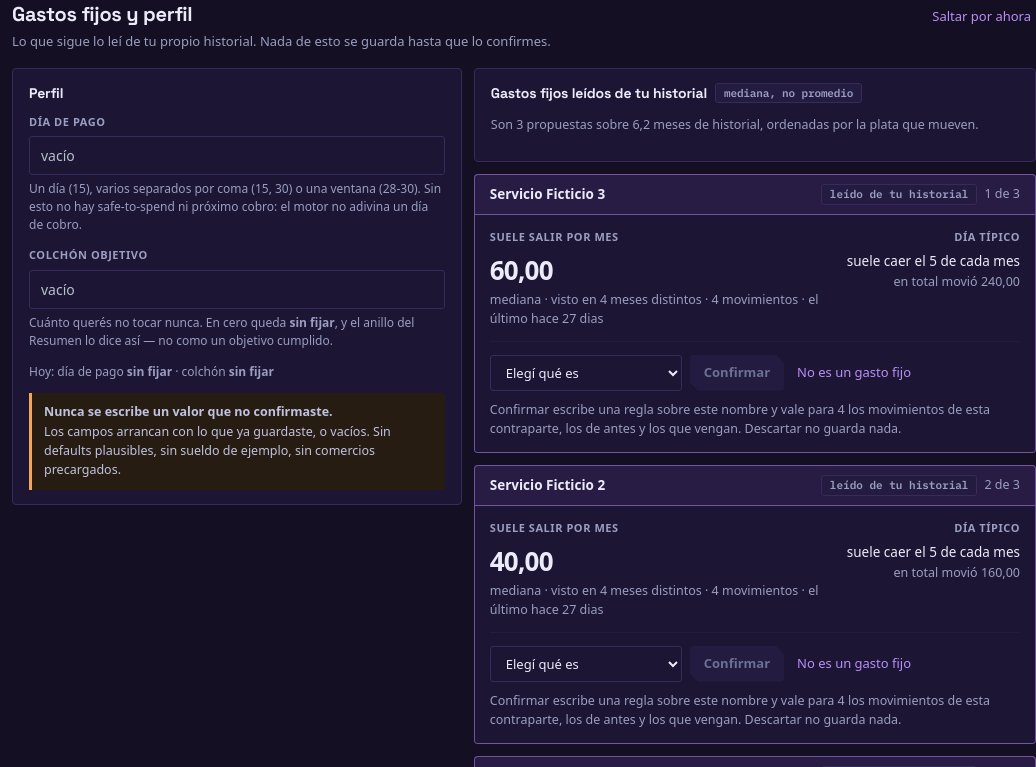
Test: el flujo termina en la cola (criterio 8) › si el motor rechaza un campo NO navega: muestra el motivo y deja corregir
This screenshot has width=1036, height=767.
Type "quincena" into the field with test id "campo-dias-pago" at (237, 156), box x1=29 y1=136 x2=445 y2=175
(page scrolled)
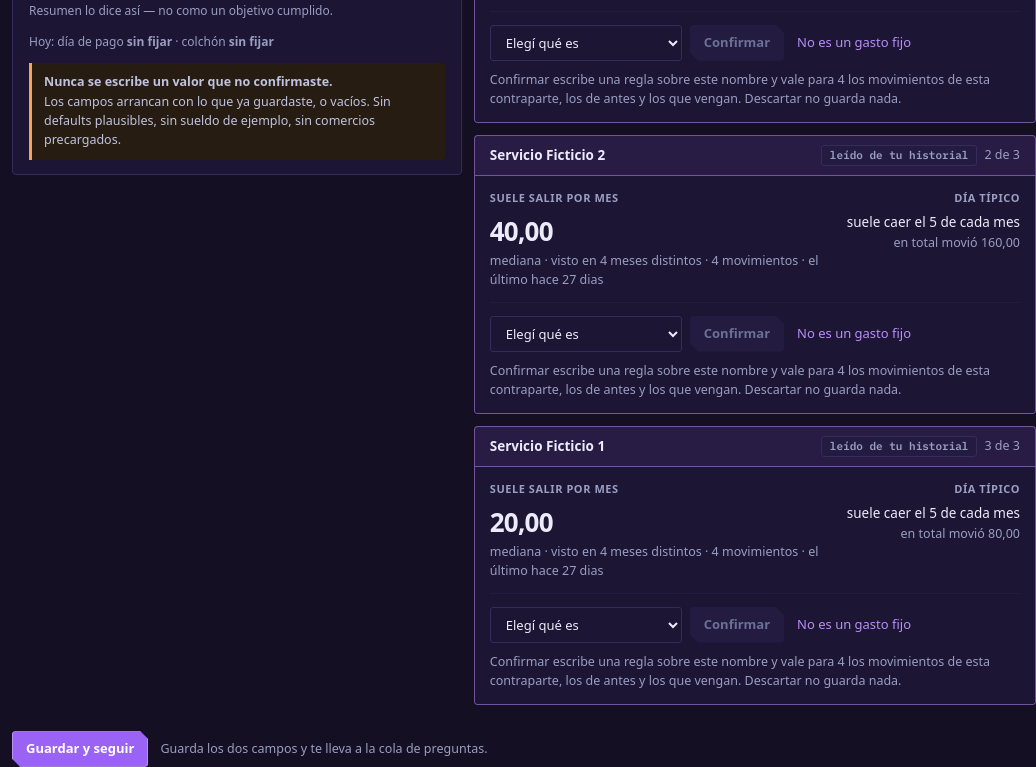
Click the button with test id "alta-guardar-y-seguir" at (80, 749), box x1=12 y1=731 x2=148 y2=766
(page scrolled)
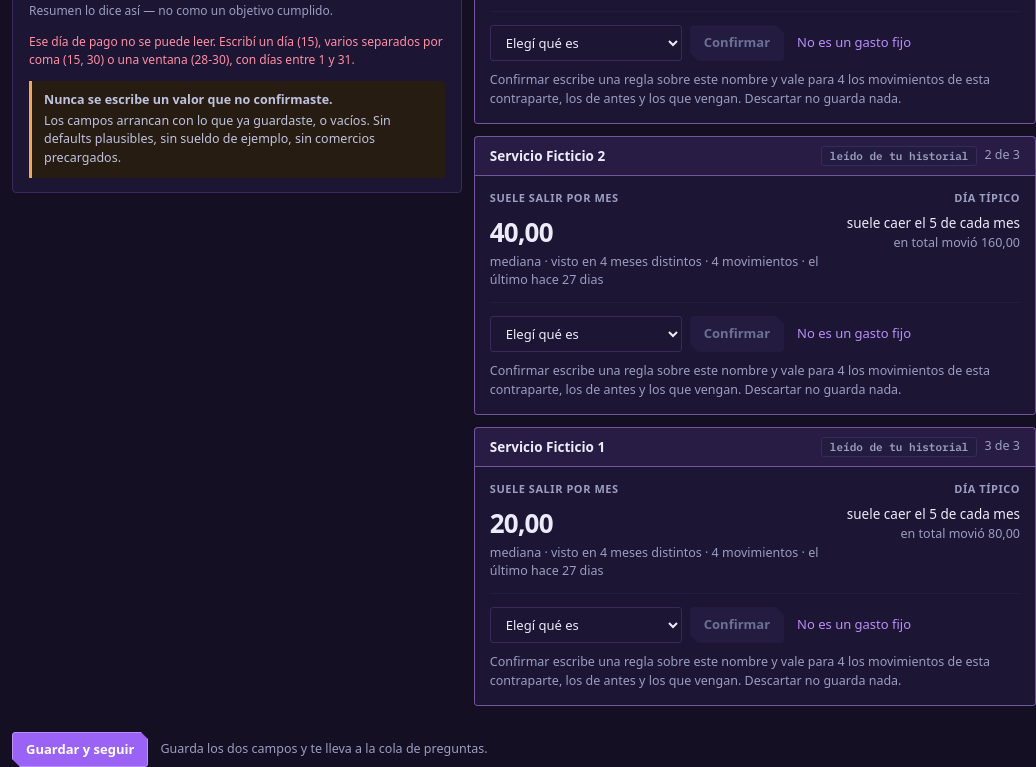
Expected: the text with test id "alta-error-perfil" shows "no se puede leer", x1=29 y1=33 x2=443 y2=68
